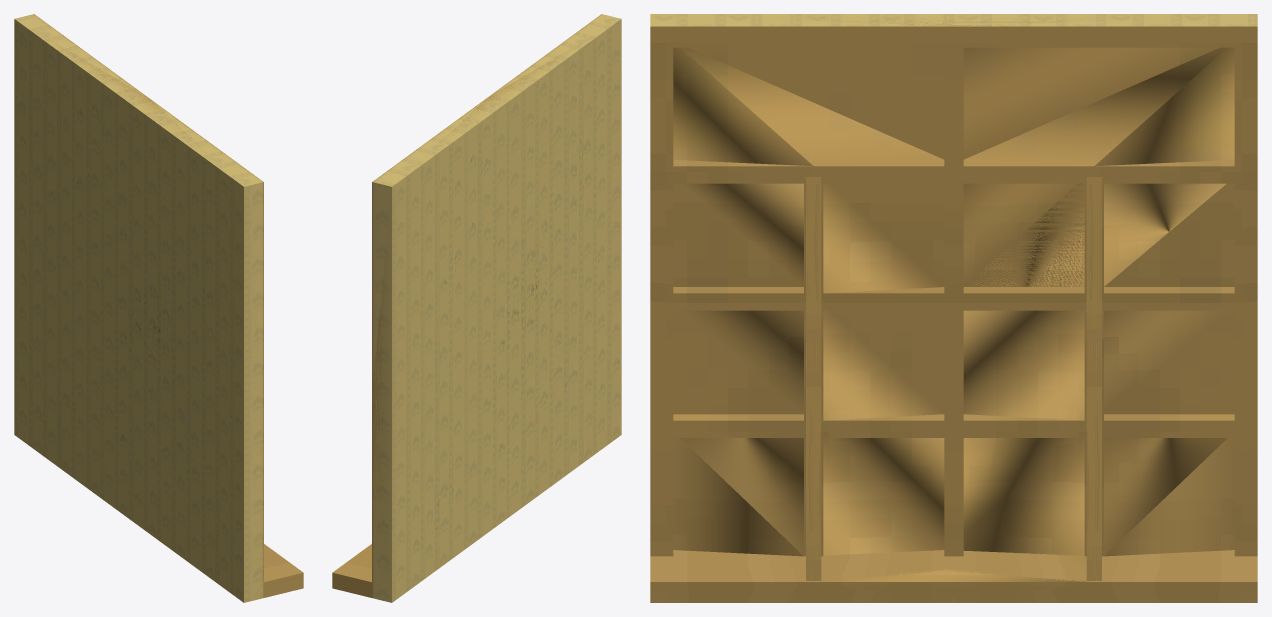
Rendered from item_backrooms_wall_2m.glb.
3 renders of one model, left to right at view 1: azimuth 30°, elevation 25°; view 2: azimuth 150°, elevation 25°; view 3: azimuth 270°, elevation 25°, orthographic. The views are drawn at different scales.
Visible parts, largest first — view 1: backrooms_wall_2m; view 2: backrooms_wall_2m; view 3: backrooms_wall_2m.
Part boxes in pixels (x1,y1,x2,y2): backrooms_wall_2m: (14, 14, 303, 602); backrooms_wall_2m: (332, 14, 621, 602); backrooms_wall_2m: (650, 14, 1257, 602).
Size of the model in its own units: 0.3 by 2 by 2.
1 material, 1 textured.
